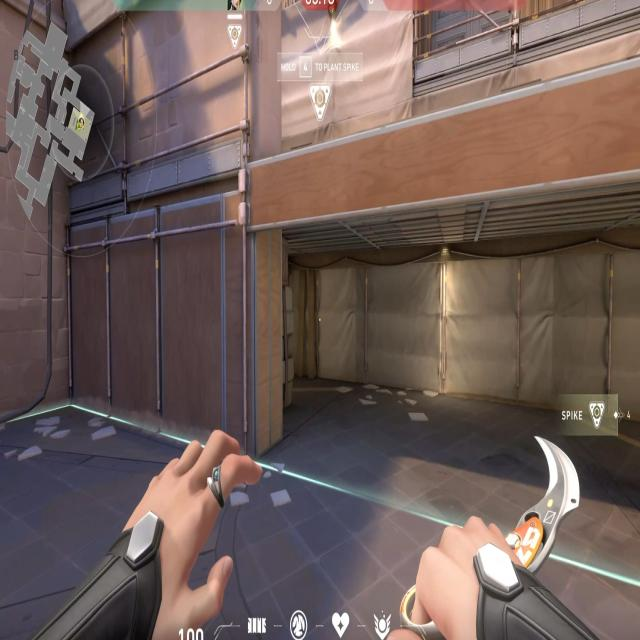A_Heaven_Wall: (57, 0, 274, 151)
A_Hell: (226, 182, 640, 515)
